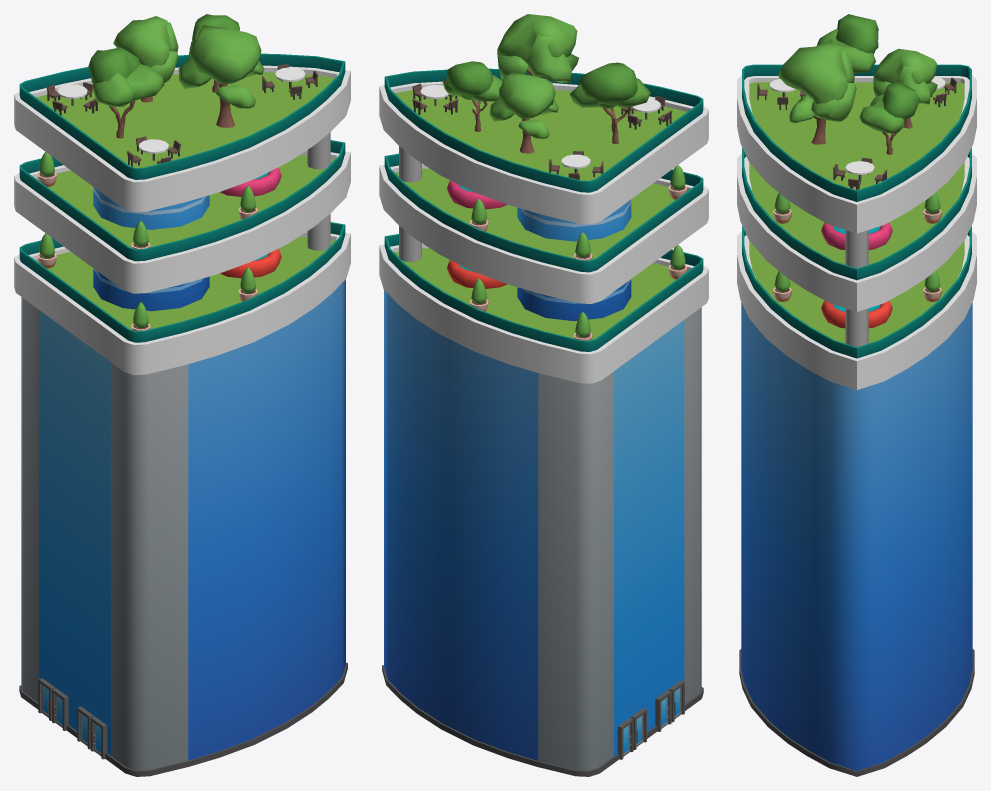
The model's file is elite_residental_building_005.glb.
The picture shows the model from 3 angles, left to right: view 1: azimuth 30°, elevation 25°; view 2: azimuth 150°, elevation 25°; view 3: azimuth 270°, elevation 25°; orthographic projection. The views are drawn at different scales.
Visible parts, largest first — view 1: elite_residental_building_005; view 2: elite_residental_building_005; view 3: elite_residental_building_005.
Part boxes in pixels (box(x1,y1,x2,y2)): elite_residental_building_005: box(14, 14, 350, 776); elite_residental_building_005: box(379, 14, 708, 776); elite_residental_building_005: box(737, 14, 976, 776).
Bounding box in the file's own units: 21.36 × 49.92 × 16.42.
Materials: 2 (2 with a texture image).
